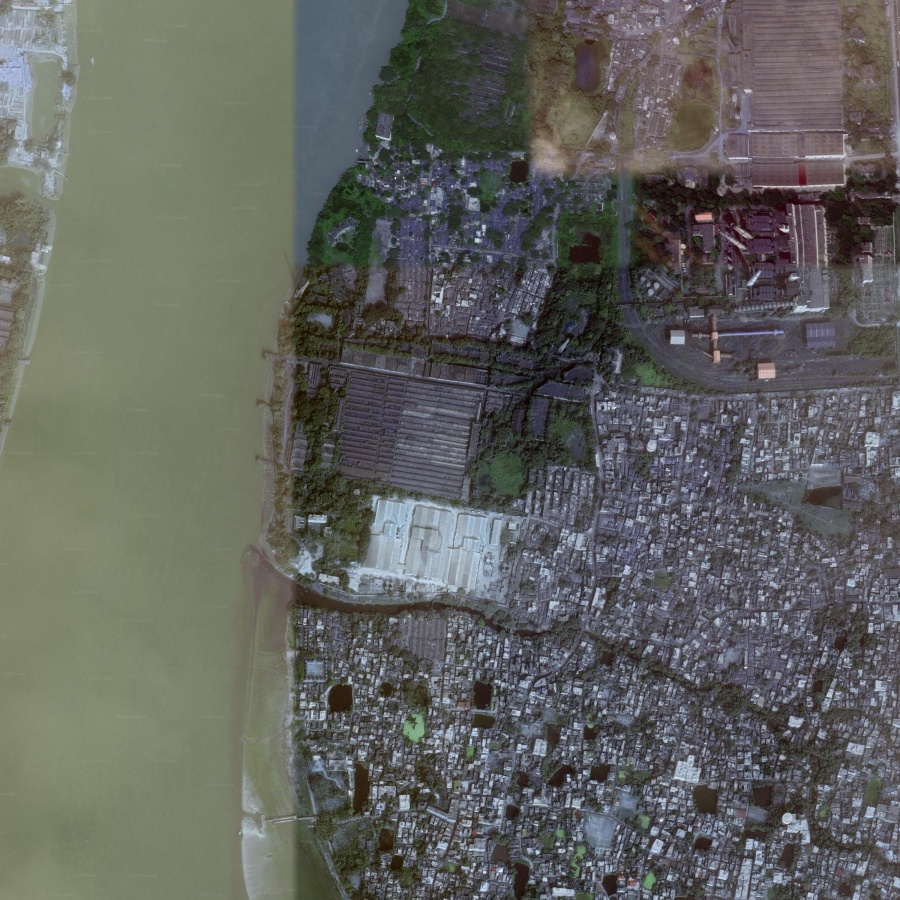PowerPlant: (624, 139, 869, 378)
